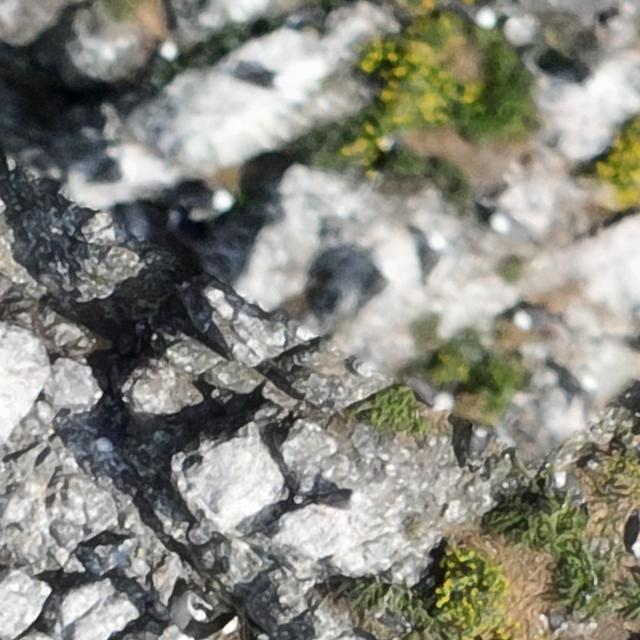umineko: (407, 368, 455, 412), (416, 232, 446, 286), (314, 487, 372, 512), (492, 210, 532, 246), (245, 68, 289, 89), (517, 309, 561, 327), (182, 193, 232, 208), (94, 163, 128, 184), (558, 475, 584, 497), (471, 428, 488, 458), (156, 42, 177, 64)
